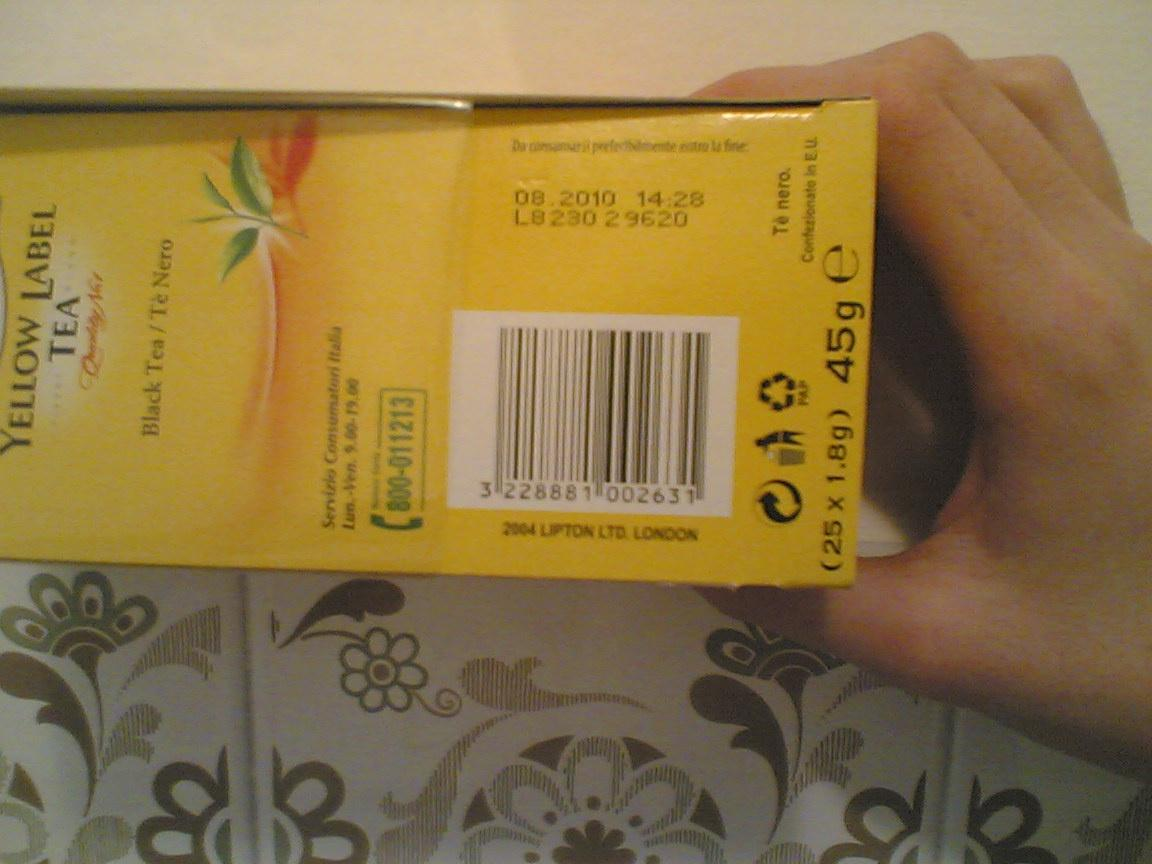Barcode: (454, 311, 737, 517)
